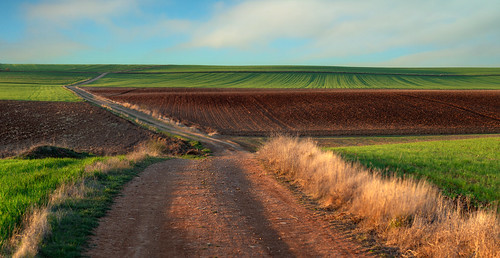grass: (1, 151, 131, 258), (337, 132, 500, 217)
road: (73, 73, 344, 258)
sky: (1, 1, 500, 59)
